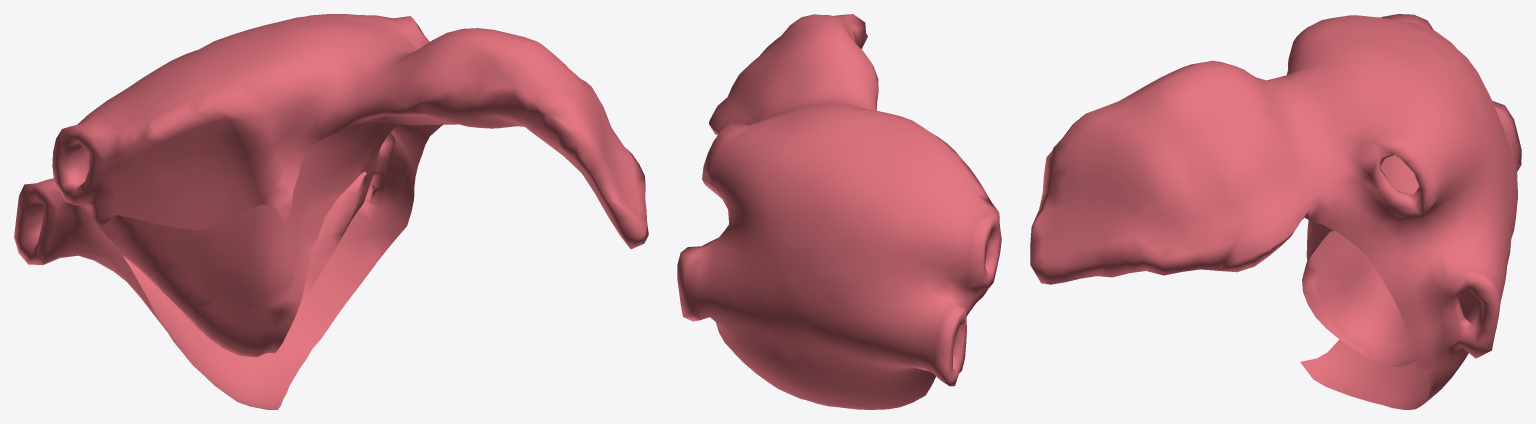
3 views of the same model, side by side, from view 1: azimuth 30°, elevation 25°; view 2: azimuth 150°, elevation 25°; view 3: azimuth 270°, elevation 25° (orthographic). The views are drawn at different scales.
Visible parts, largest first — view 1: ZA_077a19a0d00ebe83; view 2: ZA_077a19a0d00ebe83; view 3: ZA_077a19a0d00ebe83.
Part boxes in pixels (box(x1,y1,x2,y2)): ZA_077a19a0d00ebe83: box(14, 14, 648, 409); ZA_077a19a0d00ebe83: box(677, 14, 1001, 409); ZA_077a19a0d00ebe83: box(1030, 14, 1521, 409).
Size of the model in its own units: 0.0894 by 0.0752 by 0.0863.
